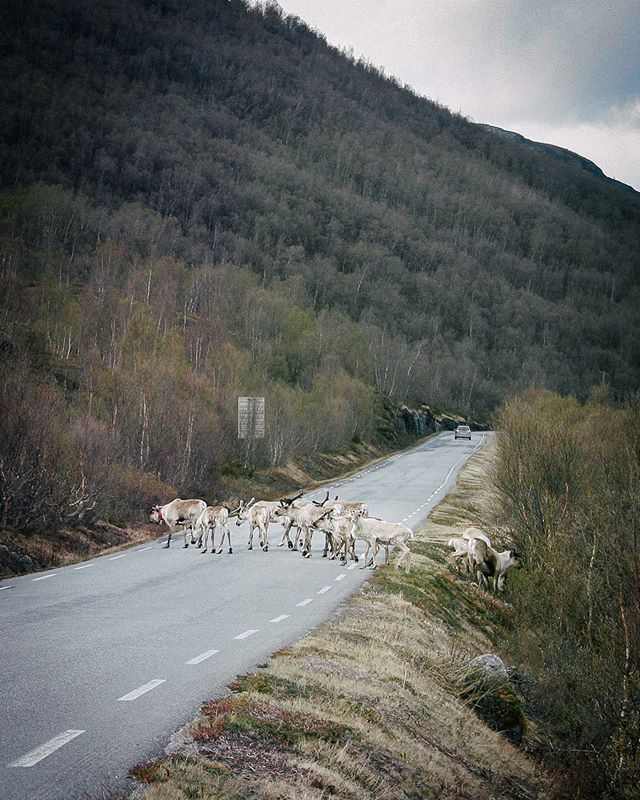animal: (311, 498, 425, 561), (140, 490, 206, 547), (181, 498, 233, 558), (234, 494, 286, 554), (276, 495, 328, 555)
sky: (365, 1, 640, 144)
street: (1, 435, 483, 797)
vegetation: (1, 18, 582, 522)
